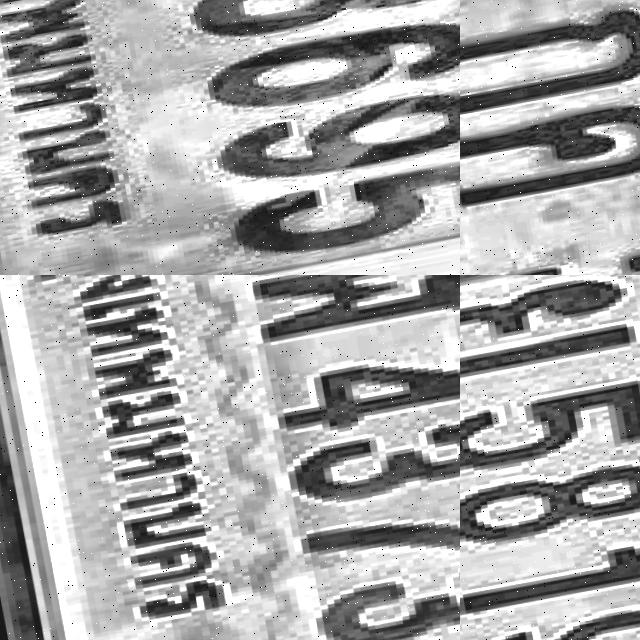license-plate: (0, 275, 460, 640), (0, 0, 460, 275), (460, 275, 640, 640), (460, 0, 640, 275)
